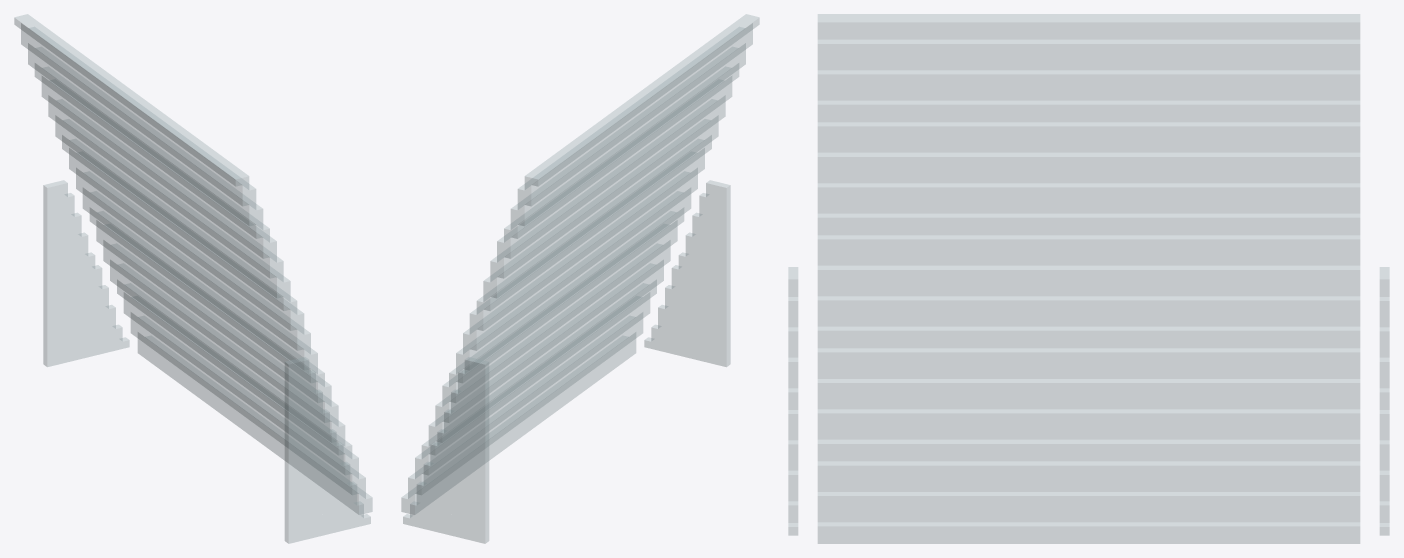
File: food_truck_windscreen.glb
The picture shows the model from 3 angles, left to right: view 1: azimuth 30°, elevation 25°; view 2: azimuth 150°, elevation 25°; view 3: azimuth 270°, elevation 25°; orthographic projection. The views are drawn at different scales.
Parts seen in each view (by area): view 1: body:compound; view 2: body:compound; view 3: body:compound.
Part boxes in pixels (<box>): body:compound: <box>14,14,372,543</box>; body:compound: <box>401,14,759,543</box>; body:compound: <box>788,14,1389,543</box>.
Bounding box in the file's own units: 0.625 × 1.59 × 1.94.
